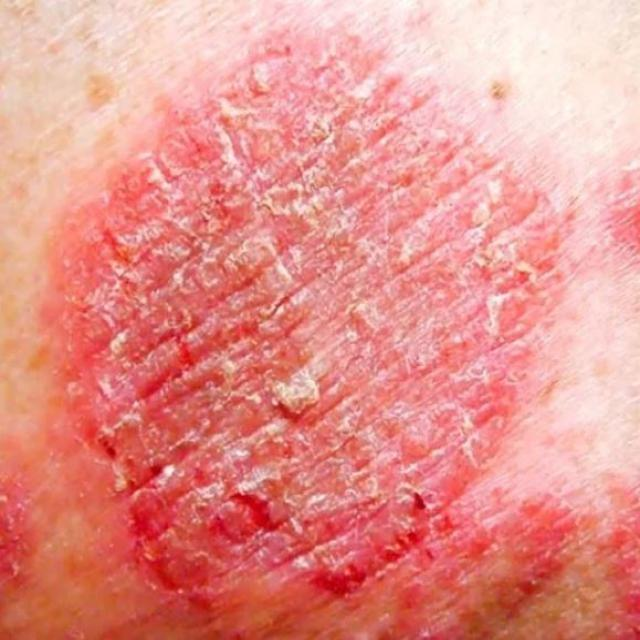Eczema: (38, 26, 573, 608)
